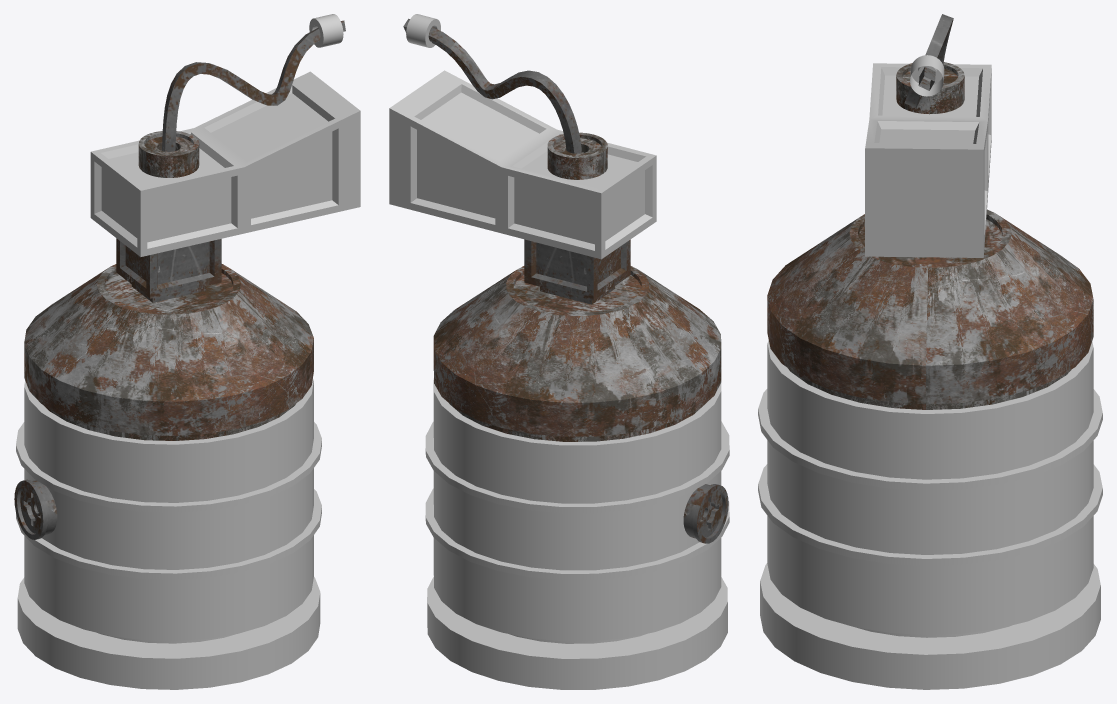
Rendered from Component_TankB_grp.fbx.
3 views of the same model, side by side, from view 1: azimuth 30°, elevation 25°; view 2: azimuth 150°, elevation 25°; view 3: azimuth 270°, elevation 25° (orthographic). The views are drawn at different scales.
Visible parts, largest first — view 1: tankB_metalB, tankB_metalA, tankB_metalRust, tankB_concreteBricks, tankB_metalC; view 2: tankB_metalB, tankB_metalA, tankB_metalRust, tankB_concreteBricks, tankB_metalC; view 3: tankB_metalB, tankB_metalA, tankB_metalRust, tankB_concreteBricks, tankB_metalC.
Boxes of the visible parts, <box> form: tankB_metalB: <box>16,379,321,643</box>; tankB_metalA: <box>24,131,313,440</box>; tankB_metalRust: <box>90,14,360,256</box>; tankB_concreteBricks: <box>17,577,320,689</box>; tankB_metalC: <box>14,20,345,539</box>; tankB_metalB: <box>425,378,729,643</box>; tankB_metalA: <box>433,132,721,441</box>; tankB_metalRust: <box>389,14,656,259</box>; tankB_concreteBricks: <box>427,576,727,689</box>; tankB_metalC: <box>403,18,728,543</box>; tankB_metalB: <box>758,340,1102,637</box>; tankB_metalA: <box>767,62,1093,409</box>; tankB_metalRust: <box>865,55,991,257</box>; tankB_concreteBricks: <box>760,563,1100,689</box>; tankB_metalC: <box>904,14,953,107</box>.
Bounding box in the file's own units: 165 × 289 × 140.
